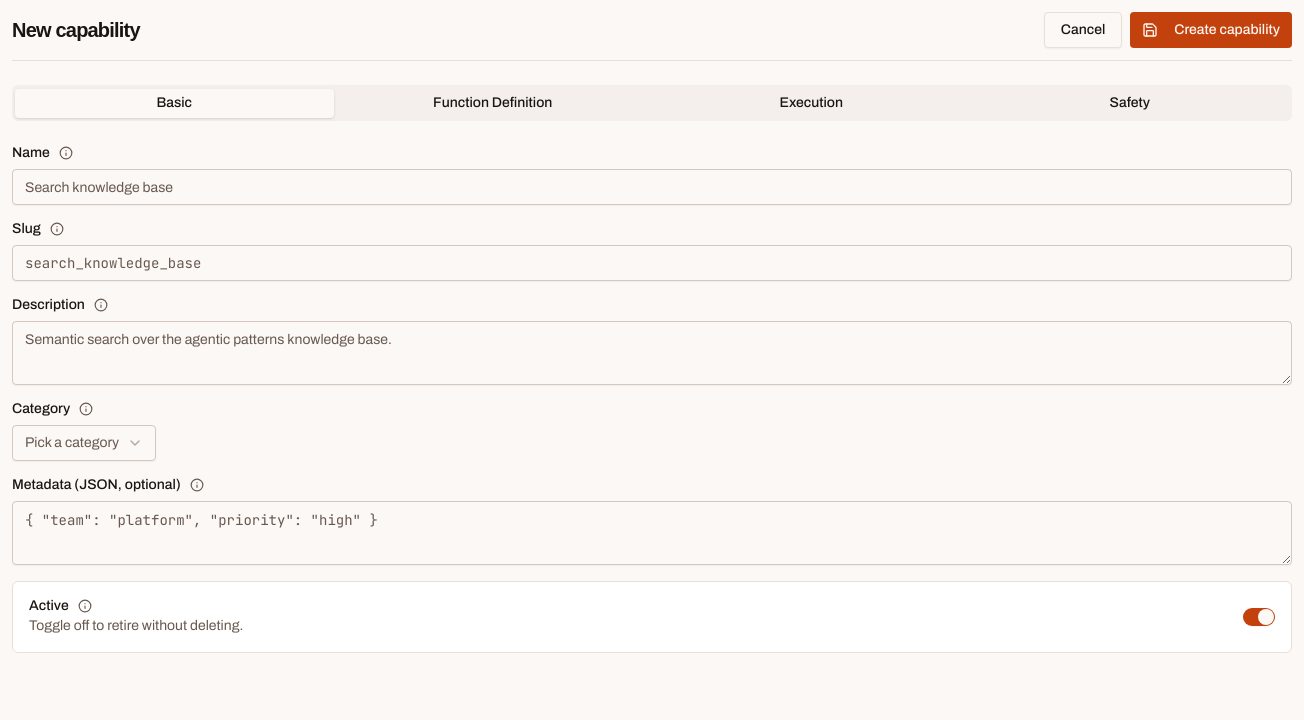
Test: CapabilityForm — Safety tab › approvalTimeoutMs input › approval timeout field appears when requiresApproval is toggled on
Click the tab "Safety" at x=1130, y=103, box [970,88,1289,118]
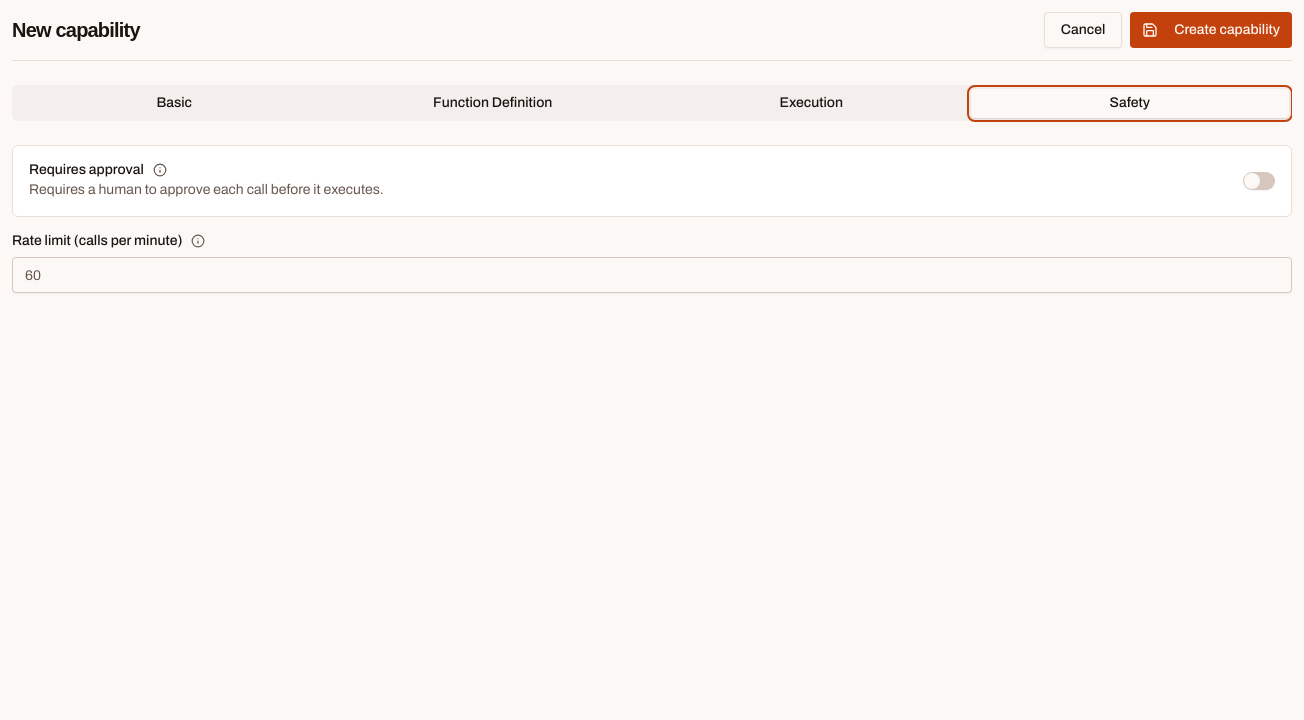
Click the switch with id "requiresApproval" at x=1259, y=181, box [1243,172,1275,190]
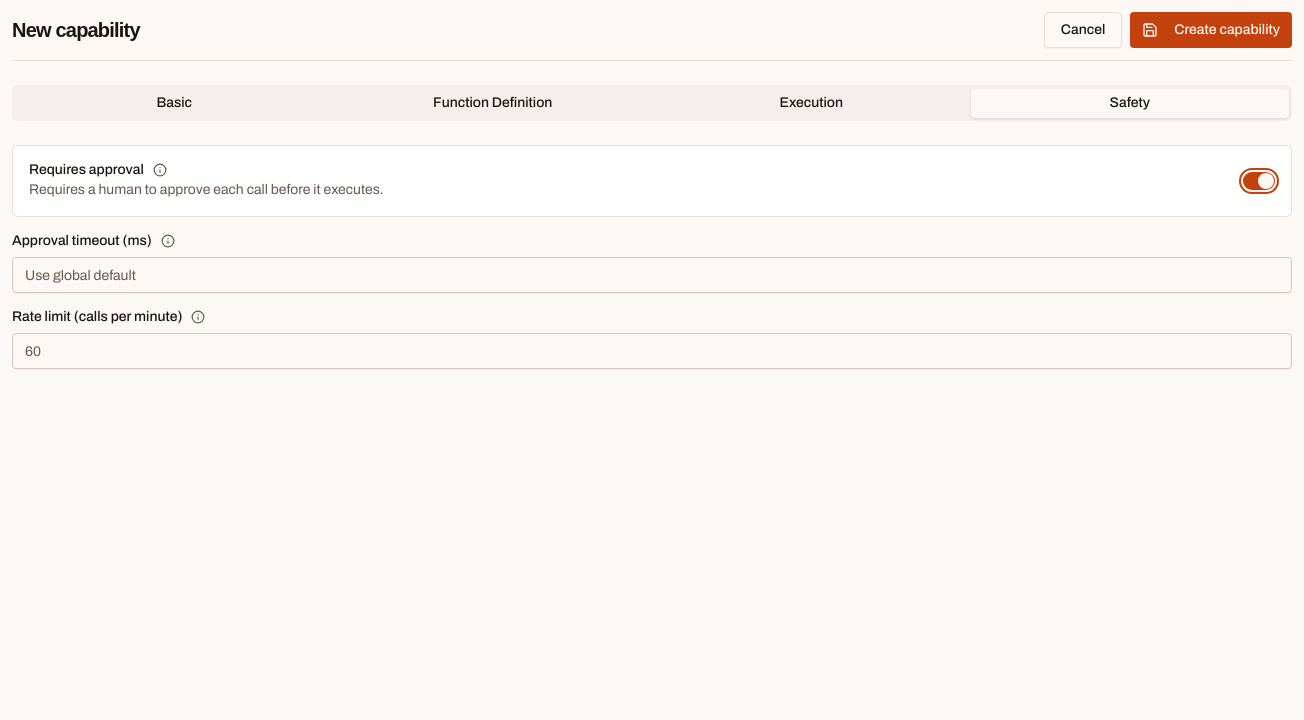
Expected: the number field labelled "Approval timeout (ms)" is shown, [12,257,1292,293]
